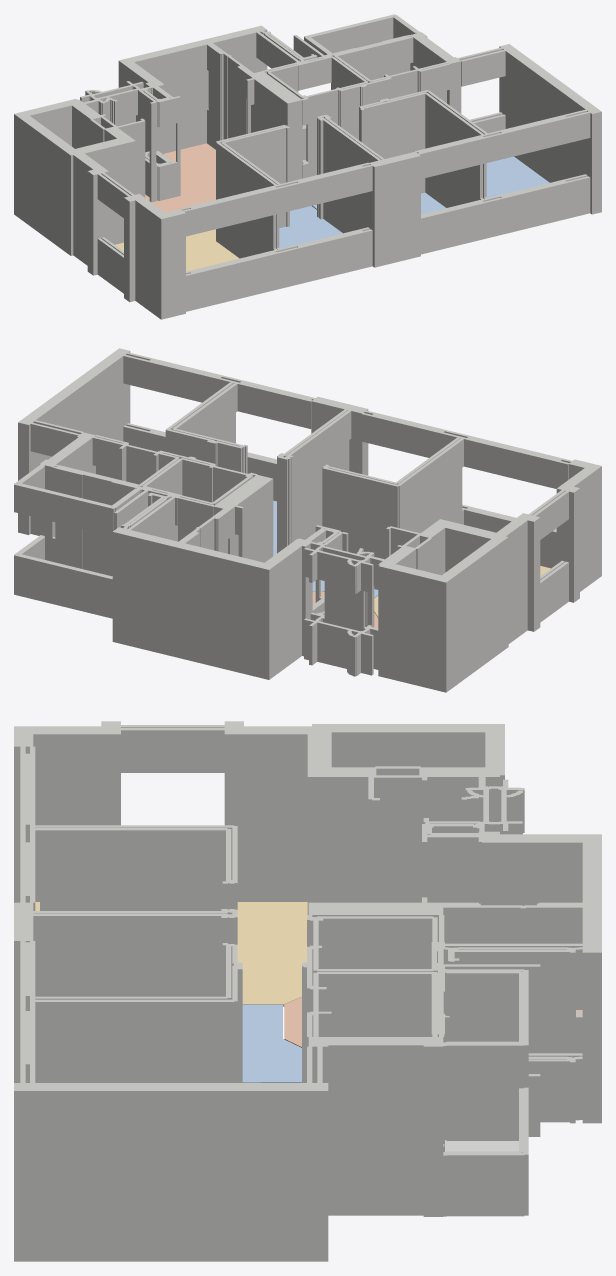
3 renders of one model, top to bottom at view 1: azimuth 30°, elevation 25°; view 2: azimuth 150°, elevation 25°; view 3: azimuth 270°, elevation 25°, orthographic. The views are drawn at different scales.
Visible parts, largest first — view 1: walls, room:kitchen:0, room:bedroom:9, room:bedroom:3, room:living:6; view 2: walls; view 3: walls, room:living:6, room:bedroom:3, room:ledge:4, room:kitchen:0.
Part boxes in pixels (x1=…): walls: x1=14, y1=14, x2=601, y2=319; room:kitchen:0: x1=145, y1=143, x2=215, y2=212; room:bedroom:9: x1=486, y1=156, x2=549, y2=197; room:bedroom:3: x1=279, y1=206, x2=342, y2=248; room:living:6: x1=115, y1=229, x2=239, y2=271; walls: x1=14, y1=348, x2=601, y2=692; walls: x1=14, y1=721, x2=601, y2=1261; room:living:6: x1=35, y1=902, x2=307, y2=1006; room:bedroom:3: x1=242, y1=1004, x2=301, y2=1082; room:ledge:4: x1=445, y1=1140, x2=518, y2=1151; room:kitchen:0: x1=284, y1=997, x2=582, y2=1047.
Size of the model in its own units: 13.02 by 2.8 by 8.75.
